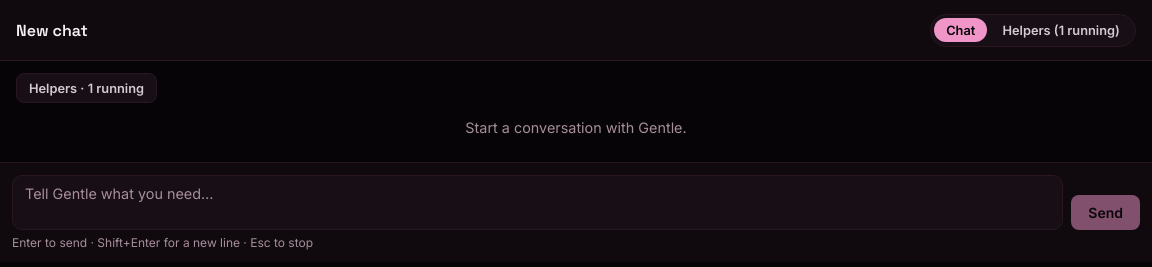
Test: ConversationContainer › shows the Helpers strip when the chat has tasks, and opens the Helpers tab on click
Click the button "Helpers · 1 running": (86, 88) [16, 73, 157, 103]
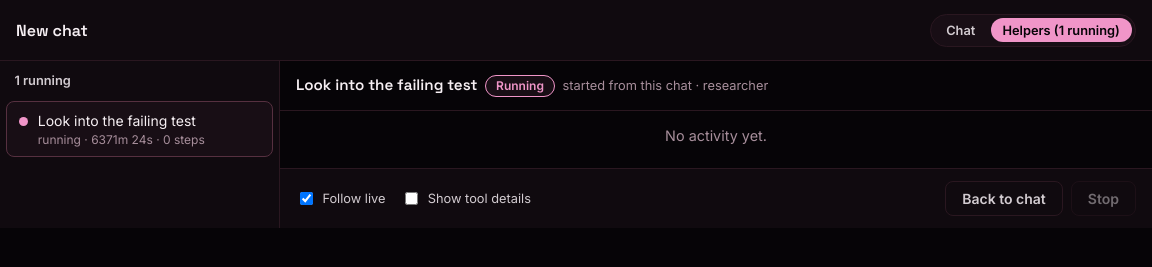
Check: the heading "Look into the failing test" is shown, box [296, 75, 478, 94]
